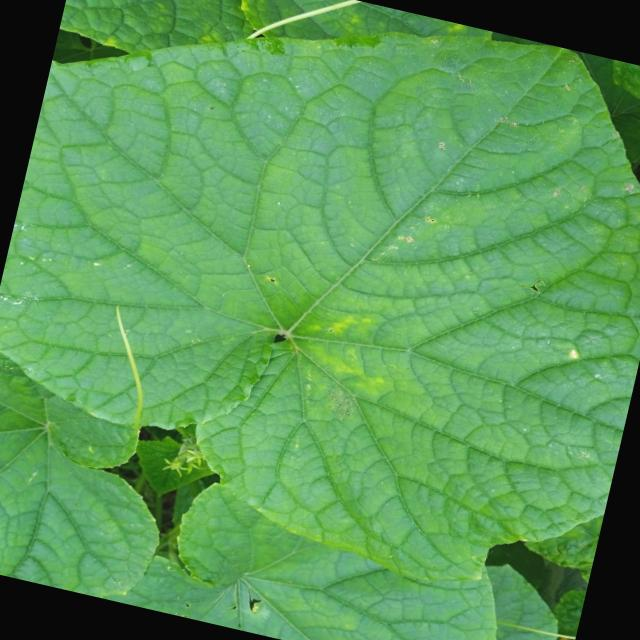cucumber_healthy: (0, 0, 640, 620), (121, 466, 538, 640), (0, 349, 195, 607), (54, 0, 376, 118)
